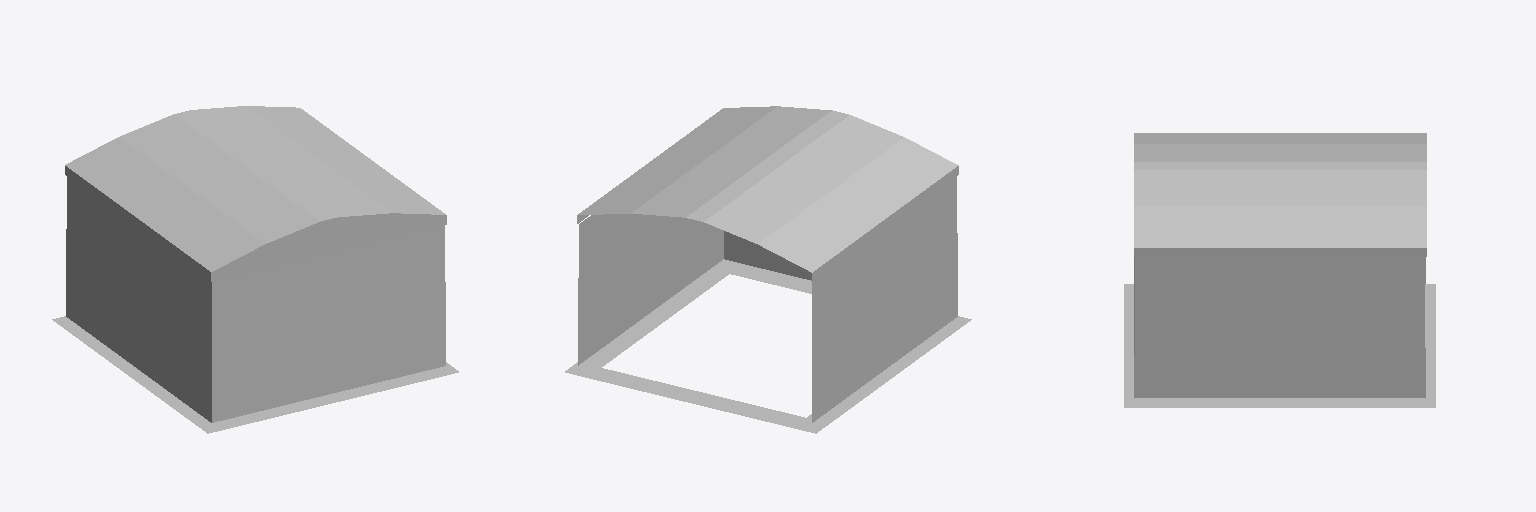
Rendered from Cold Storage Warehouse 1.obj.
The picture shows the model from 3 angles: view 1: azimuth 30°, elevation 25°; view 2: azimuth 150°, elevation 25°; view 3: azimuth 270°, elevation 25°; orthographic projection.
Visible parts, largest first — view 1: polygon2, polygon1, polygon0; view 2: polygon2, polygon1, polygon0; view 3: polygon2, polygon1, polygon0.
Part boxes in pixels (left/top/right/bottom): polygon2: left=66, top=177, right=445, bottom=422; polygon1: left=65, top=106, right=446, bottom=281; polygon0: left=52, top=316, right=458, bottom=433; polygon2: left=578, top=177, right=957, bottom=422; polygon1: left=577, top=106, right=958, bottom=281; polygon0: left=565, top=259, right=971, bottom=433; polygon2: left=1134, top=257, right=1425, bottom=397; polygon1: left=1134, top=133, right=1426, bottom=256; polygon0: left=1124, top=284, right=1435, bottom=407.
Bounding box in the file's own units: 112 × 76.25 × 120.